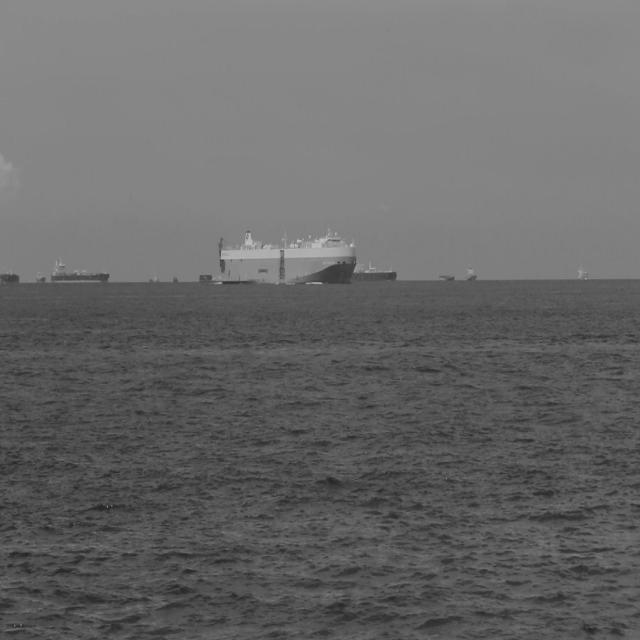boat: (149, 273, 159, 284)
ship: (216, 226, 356, 286), (50, 254, 110, 285), (350, 254, 398, 284), (0, 264, 20, 285), (576, 263, 588, 281), (466, 264, 477, 282), (35, 269, 46, 285), (198, 273, 213, 284), (438, 274, 455, 282)
